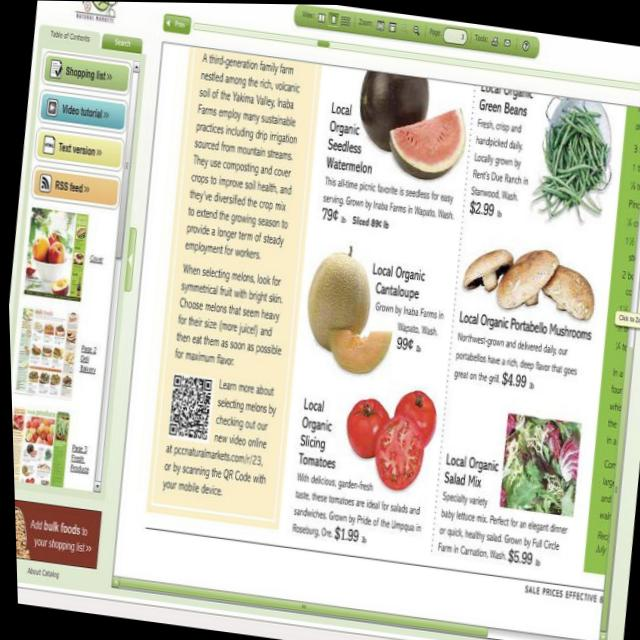qrcode: (166, 375, 211, 439)
